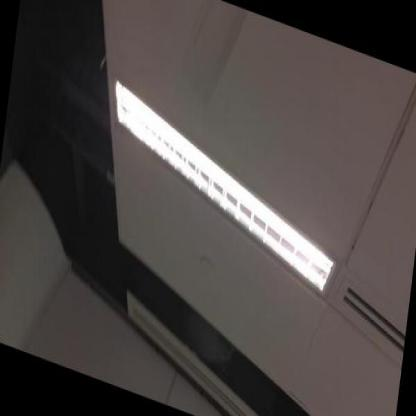light_on: (89, 68, 347, 302)
